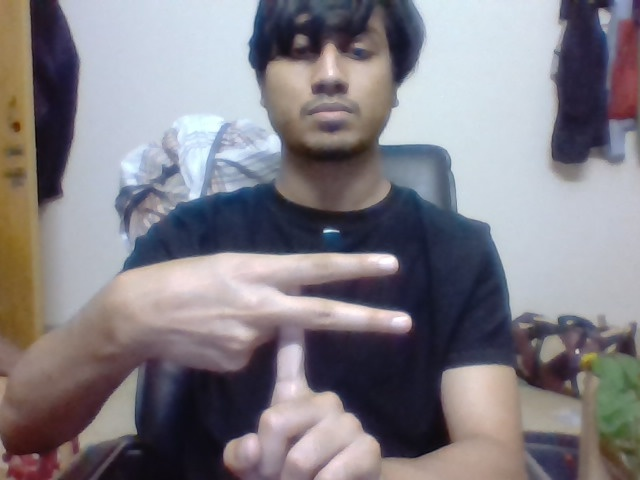F: (275, 250, 416, 388)
